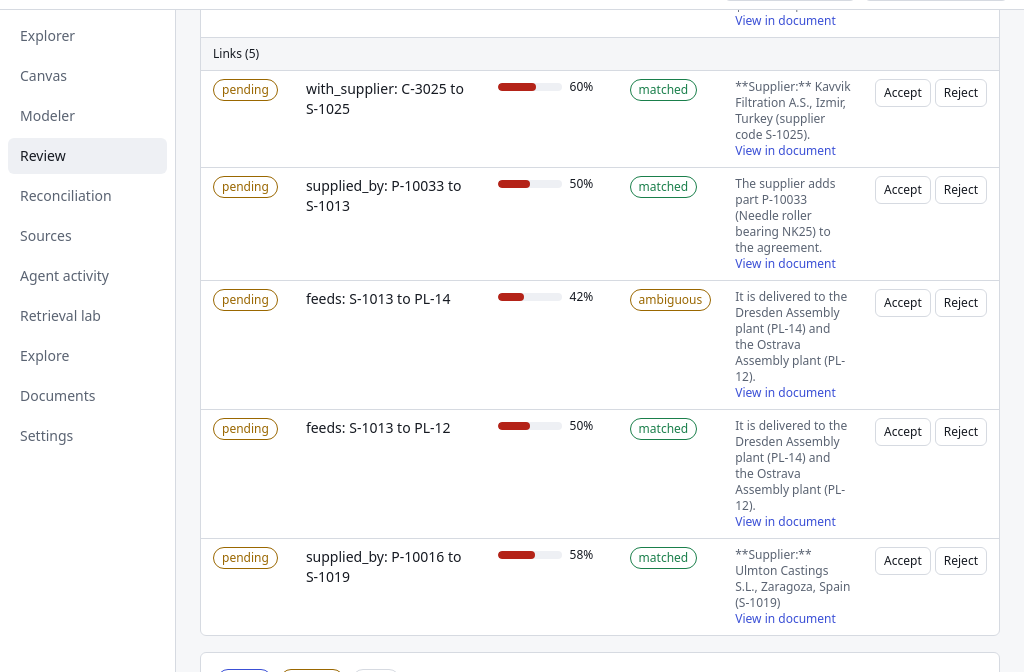
Test: Review: extraction items › points an ambiguous match at another candidate before applying
(page scrolled)
Click the 4th row at [600, 345], box [201,280,999,410]
(page scrolled)
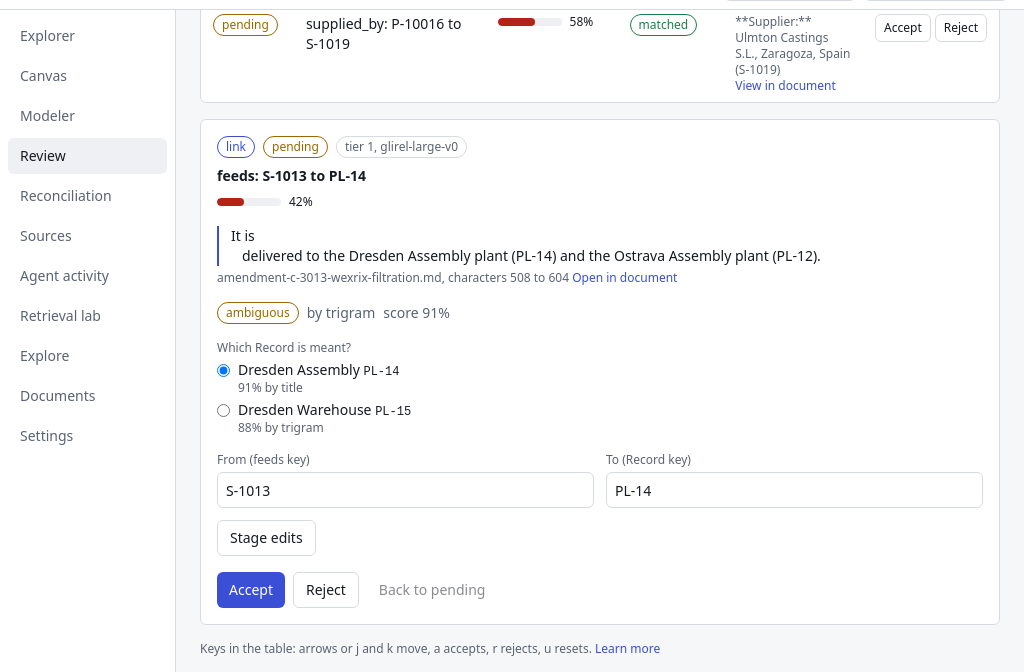
Check: the radio button labelled "Dresden Assembly PL-14 91% by title" is checked, box [217,364,230,377]
Click the radio button labelled "Dresden Warehouse PL-15 88% by trigram" at [224, 410], box [217,404,230,417]
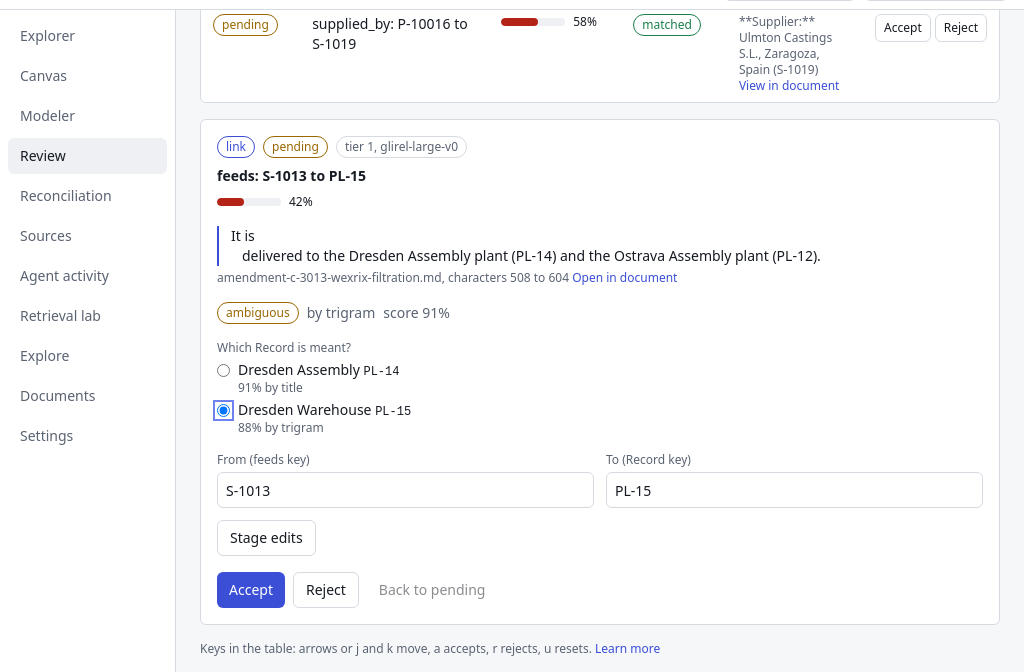
Click the button "Accept" below "From (feeds key)" at [251, 590], box [217,572,285,608]
(page scrolled)
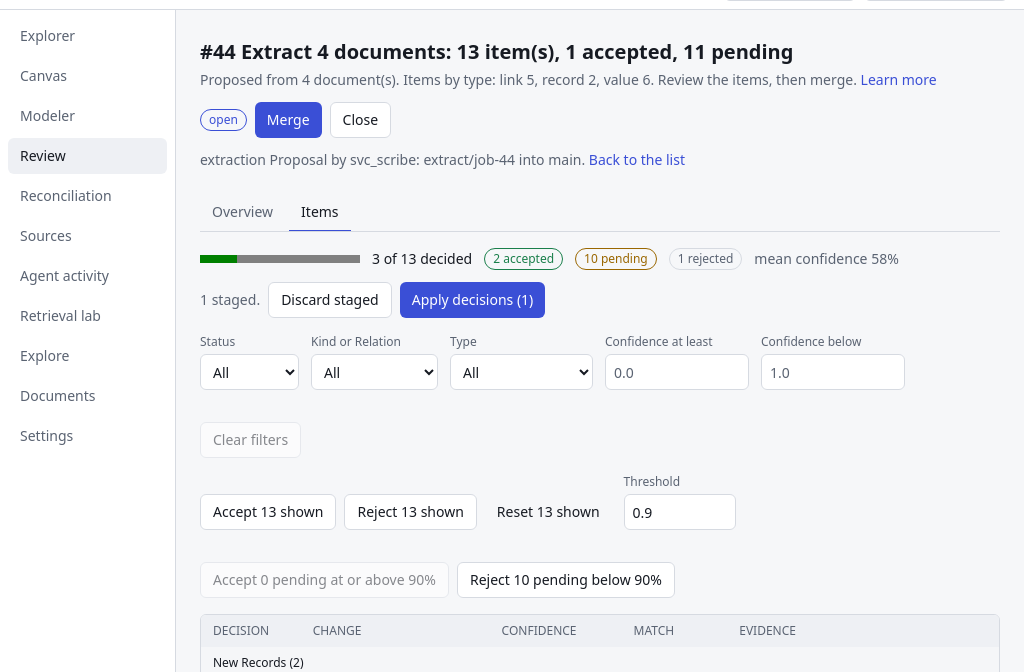
Click the button "Apply decisions (1)" at [472, 300], box [400,282,545,318]
(page scrolled)
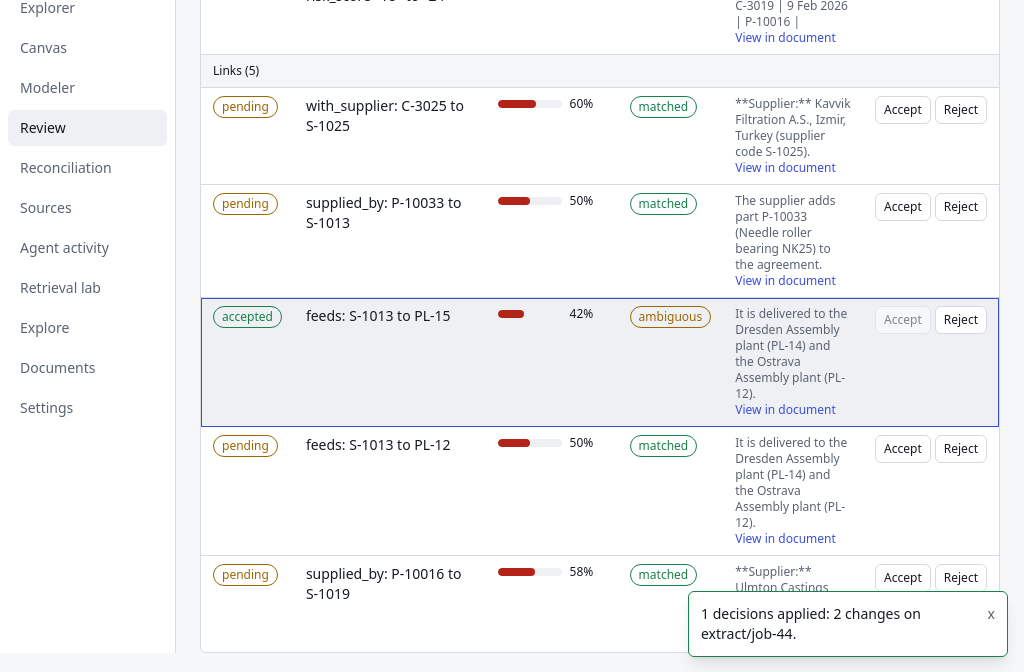
Check: the text "accepted" is shown, box [213,306,282,328]
Check: the text "feeds: S-1013 to PL-15" is shown, box [294,298,486,426]
